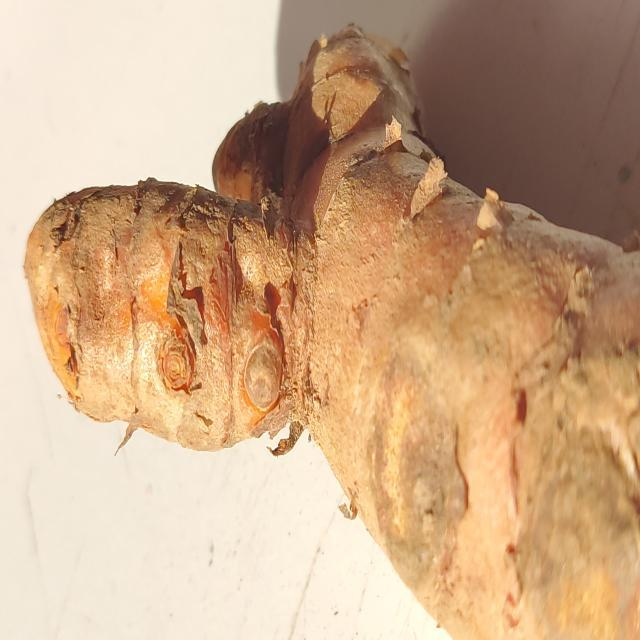ginger: (45, 31, 640, 636)
